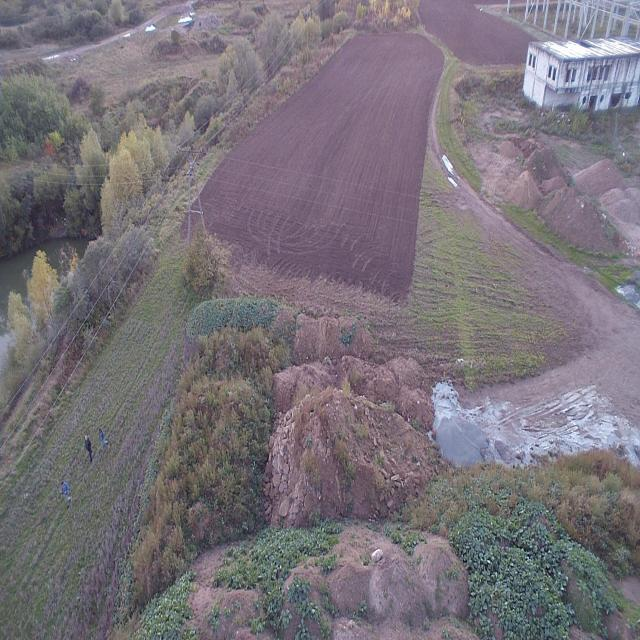p3rson: (61, 481, 73, 510), (85, 434, 94, 464), (99, 428, 109, 451)
